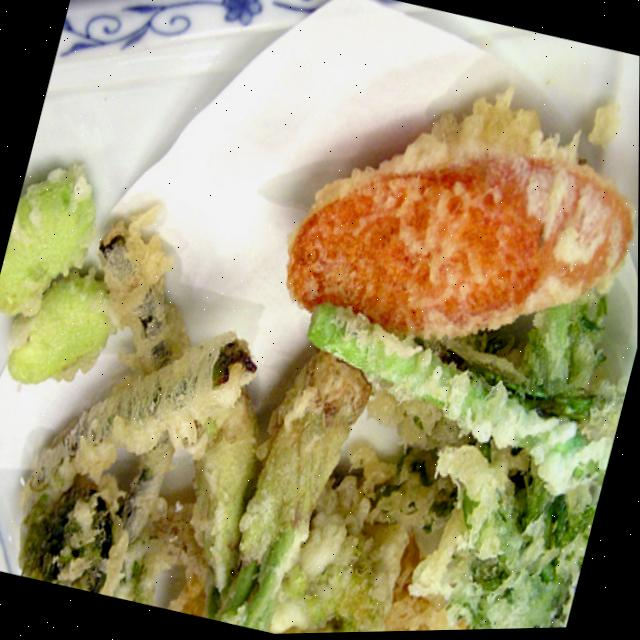蔬菜料理: (0, 27, 640, 640)
